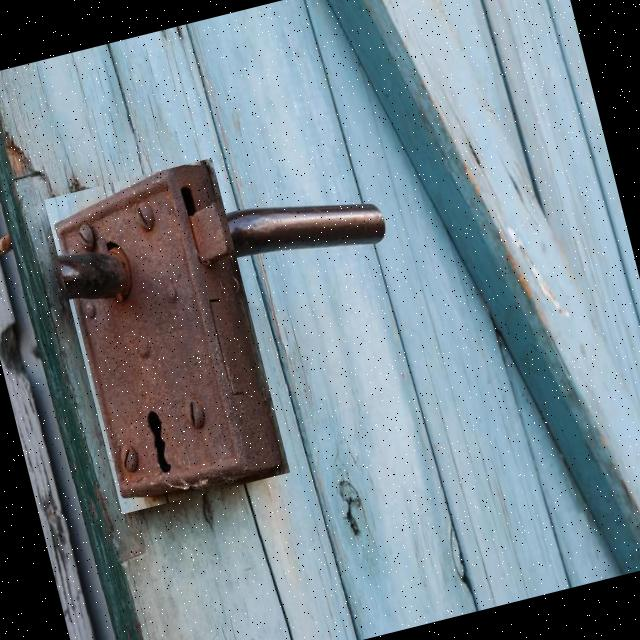Corrosion: (41, 156, 290, 514)
